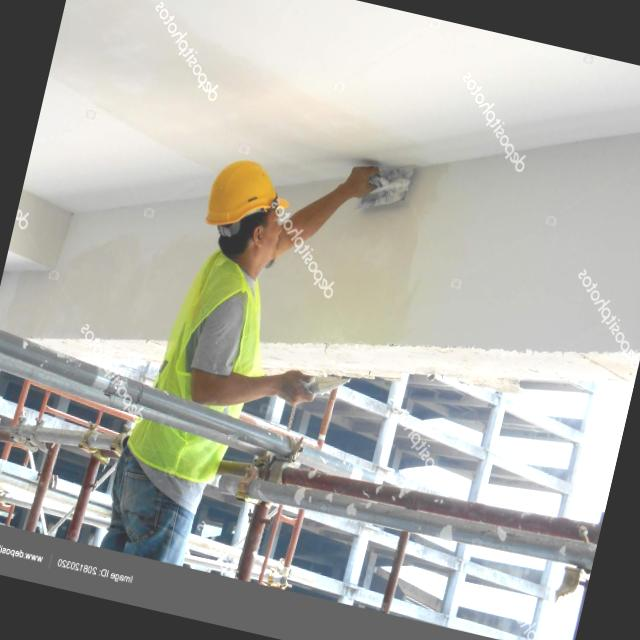helmet: (199, 149, 301, 252)
vest: (121, 252, 276, 486)
